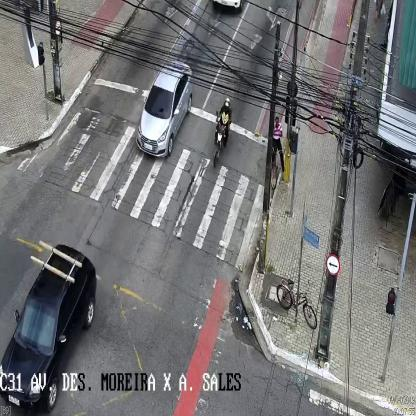bicycle: (276, 277, 318, 330), (270, 115, 284, 190)
car: (1, 244, 96, 411), (136, 60, 193, 157)
motorbike: (214, 99, 230, 170)
